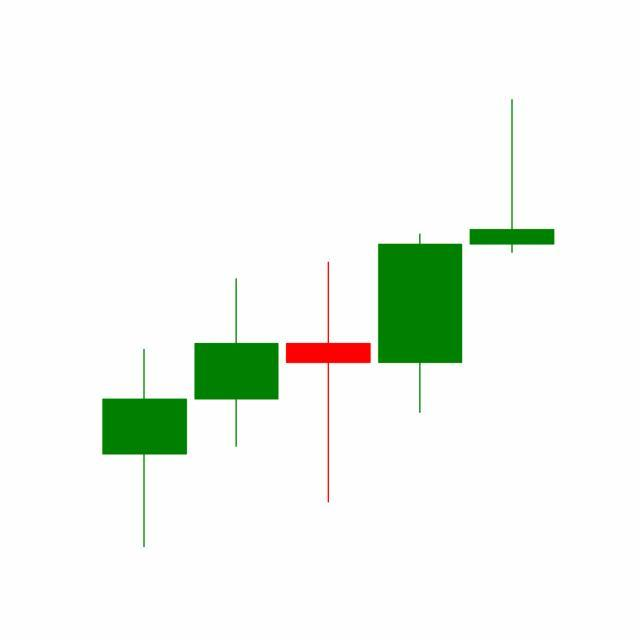Gravestone Doji: (466, 98, 559, 256)
